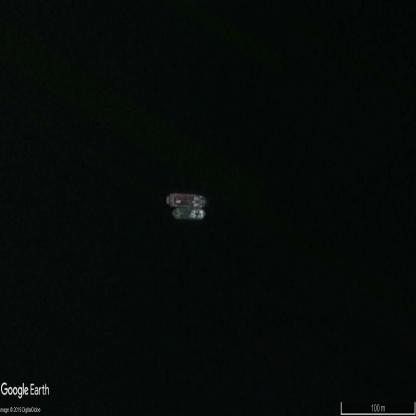ship: (165, 193, 207, 208), (172, 210, 206, 220)
